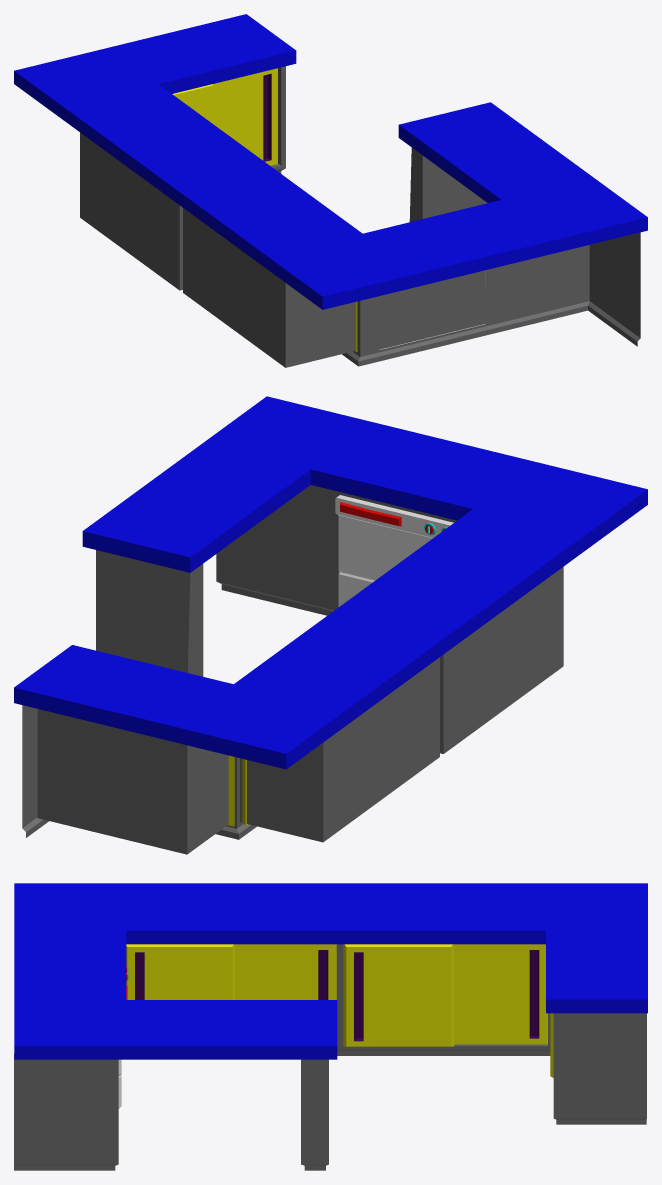
File: Bar_Countertop.fbx
3 views of the same model, one above another, from view 1: azimuth 30°, elevation 25°; view 2: azimuth 150°, elevation 25°; view 3: azimuth 270°, elevation 25° (orthographic). The views are drawn at different scales.
Visible parts, largest first — view 1: Bar_Countertop; view 2: Bar_Countertop; view 3: Bar_Countertop.
Part boxes in pixels (box(x1,y1,x2,y2)): Bar_Countertop: box(14, 14, 647, 367); Bar_Countertop: box(14, 396, 647, 854); Bar_Countertop: box(14, 883, 647, 1170).
Size of the model in its own units: 330 by 123 by 543.
